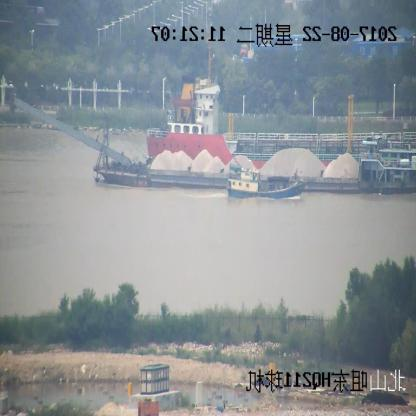Fishing Boat: (228, 163, 307, 201)
